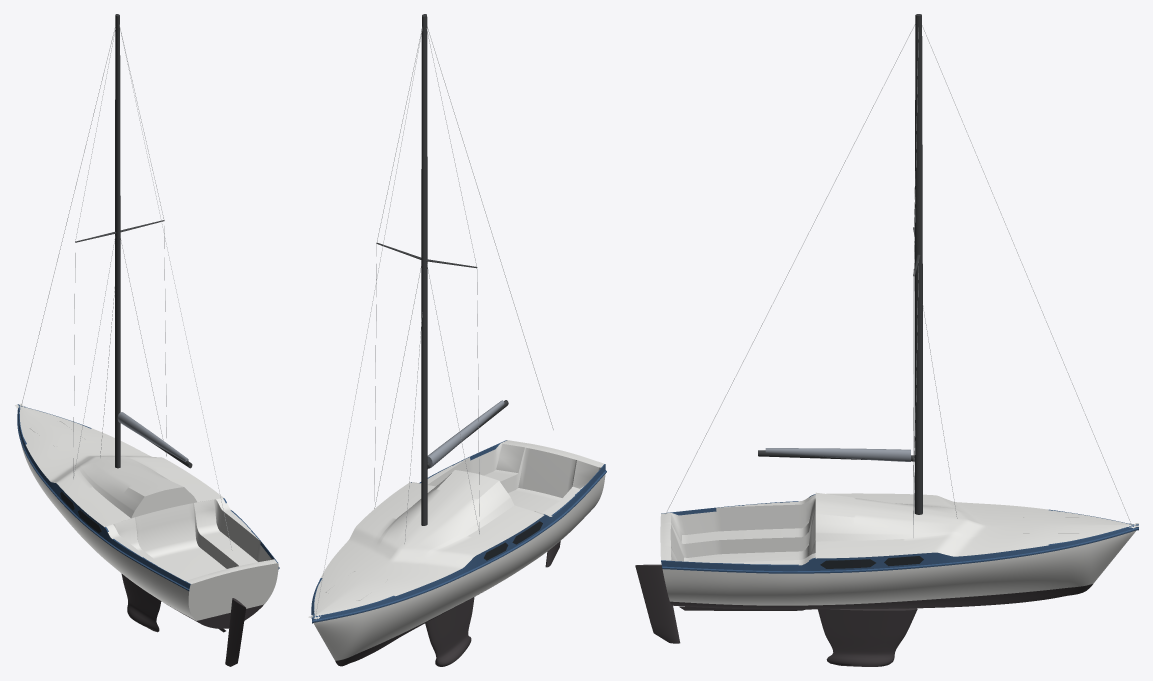
The model's file is maxi77-exterior.glb.
The picture shows the model from 3 angles, left to right: view 1: azimuth 30°, elevation 25°; view 2: azimuth 150°, elevation 25°; view 3: azimuth 270°, elevation 25°; orthographic projection. The views are drawn at different scales.
Parts seen in each view (by area): view 1: deck_forward, deck_aft, hull, mast, rigging, keel, rudder, sailcover, rubrail; view 2: deck_forward, hull, deck_aft, mast, rigging, keel, rubrail, sailcover, windows; view 3: hull, deck_forward, deck_aft, keel, mast, rudder, rigging, rubrail, sailcover, windows.
Boxes of the visible parts, <box> form: deck_forward: <box>15,403,223,537</box>; deck_aft: <box>104,498,278,589</box>; hull: <box>21,443,278,628</box>; mast: <box>115,14,120,468</box>; rigging: <box>21,24,232,550</box>; keel: <box>121,573,161,632</box>; rudder: <box>225,598,245,666</box>; sailcover: <box>117,412,188,461</box>; rubrail: <box>17,408,279,590</box>; deck_forward: <box>308,470,545,620</box>; hull: <box>313,474,605,666</box>; deck_aft: <box>411,440,605,527</box>; mast: <box>421,14,427,525</box>; rigging: <box>315,27,553,615</box>; keel: <box>425,597,474,666</box>; rubrail: <box>311,470,606,623</box>; sailcover: <box>427,400,504,468</box>; windows: <box>484,521,542,560</box>; hull: <box>662,530,1135,609</box>; deck_forward: <box>815,492,1138,570</box>; deck_aft: <box>660,494,815,571</box>; keel: <box>818,608,917,666</box>; mast: <box>914,14,922,514</box>; rudder: <box>635,564,680,643</box>; rigging: <box>666,24,1131,537</box>; rubrail: <box>662,527,1138,573</box>; sailcover: <box>765,448,910,461</box>; windows: <box>820,556,923,568</box>.
Bounding box in the file's own units: 2.51 × 11.47 × 8.04.
